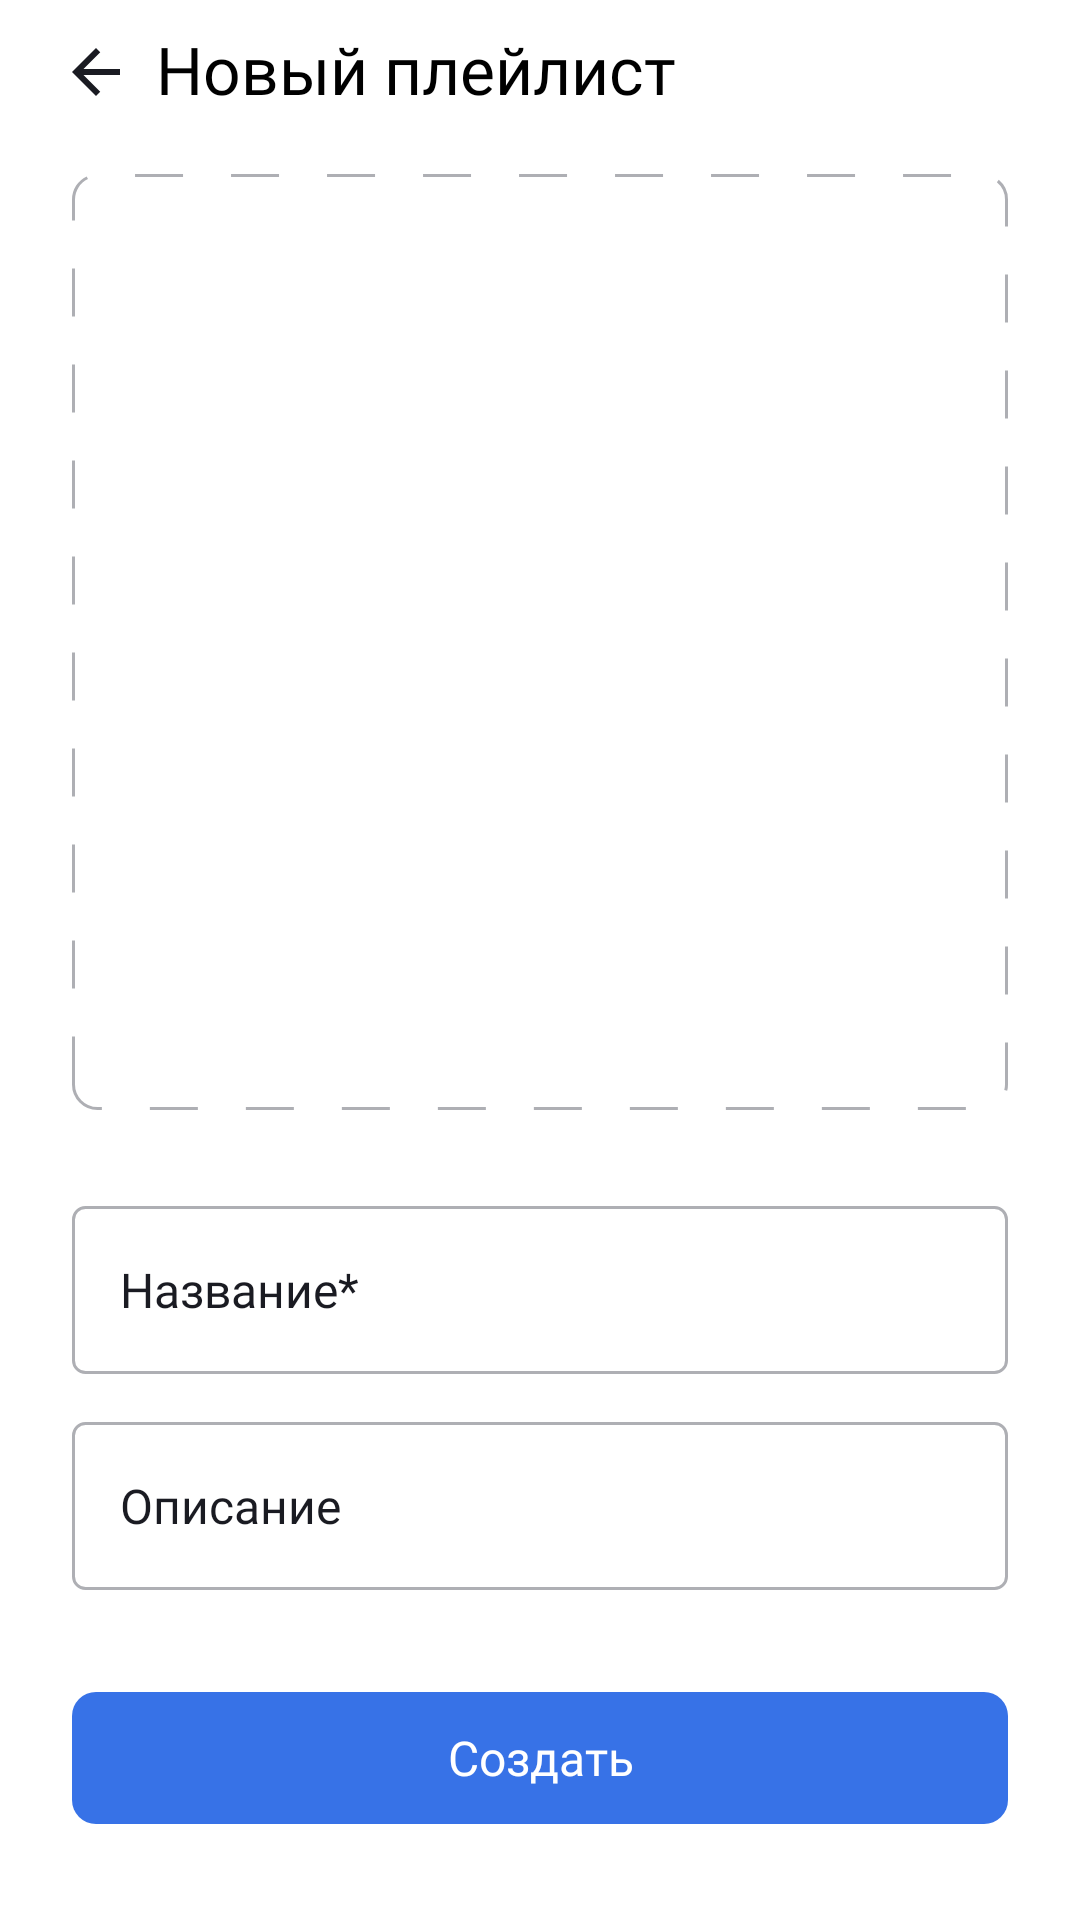

Icons on this 1080w x 1920h Android screen, each with its box as bbox=[x1, y1, x2, y2]:
arrow: bbox=[72, 48, 120, 96]
